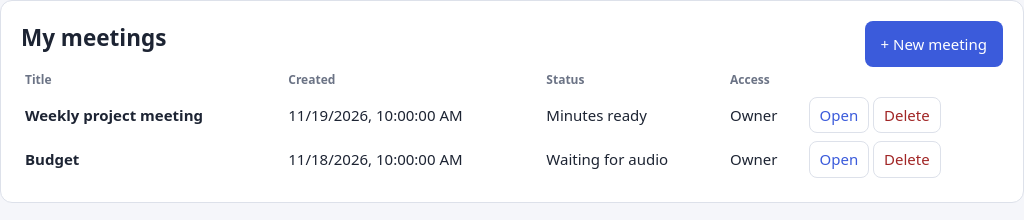
Scenario: MeetingList › deletes after confirming
Click the button with aria-label "Delete Budget" at (907, 160), box [873,141,941,178]
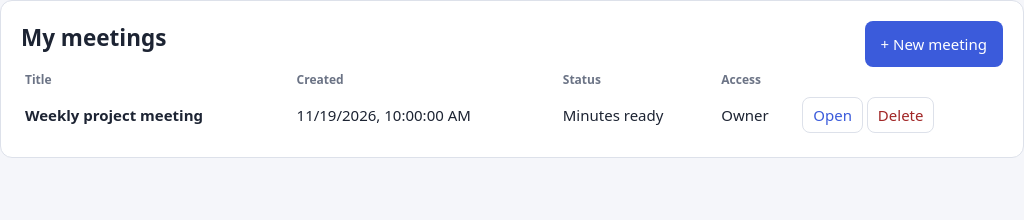
expect the text "Budget" is gone: met
